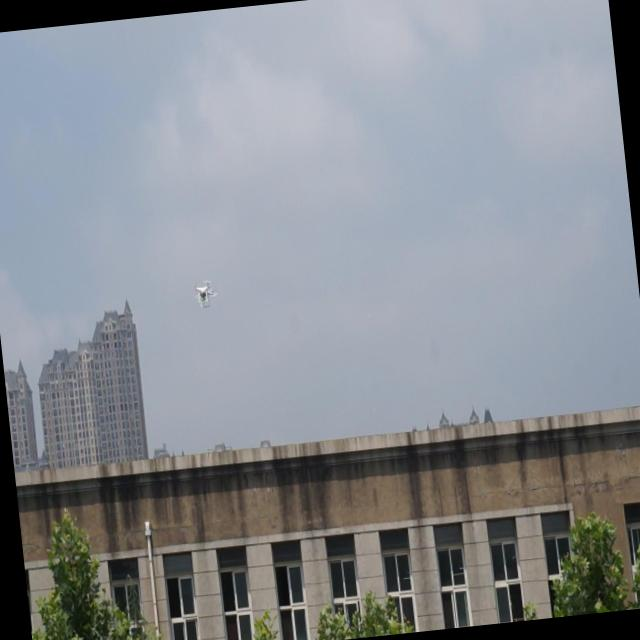drone: (190, 274, 220, 312)
